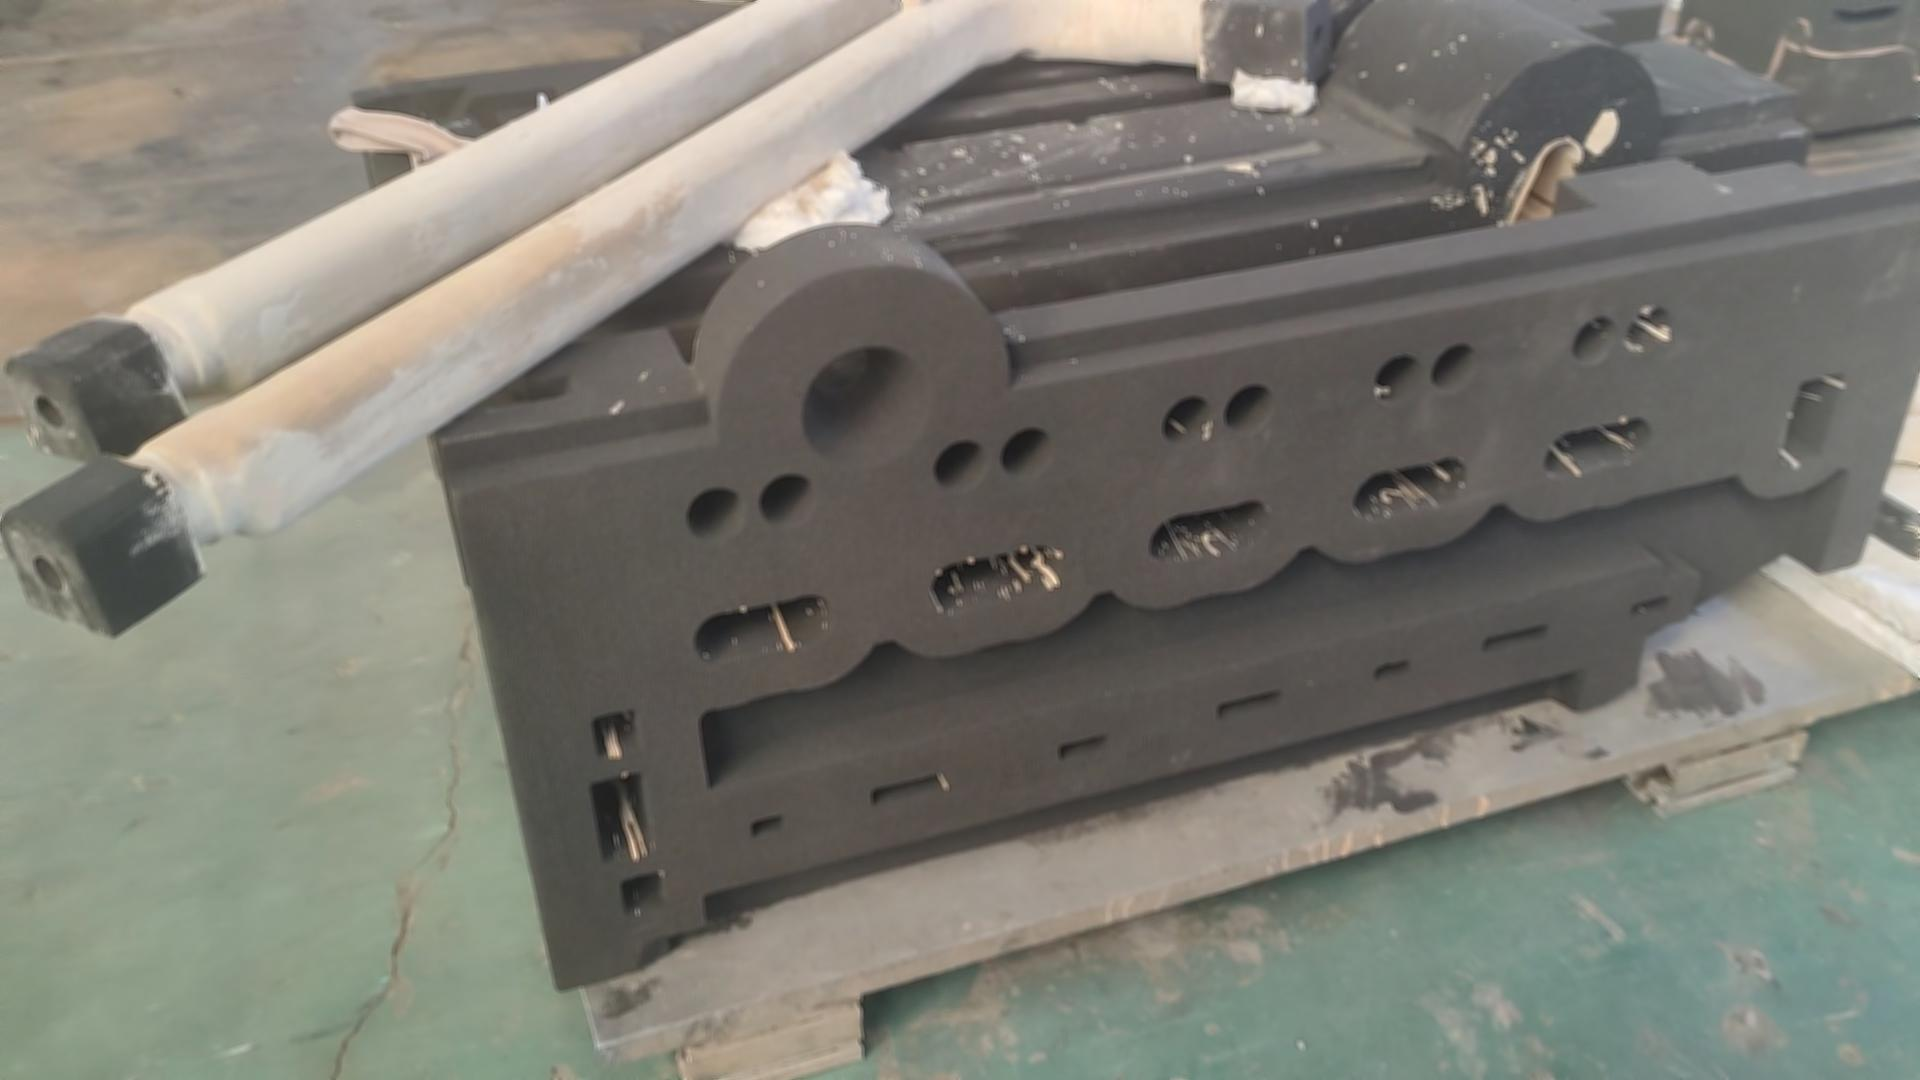pouring hole: (800, 344, 931, 469)
